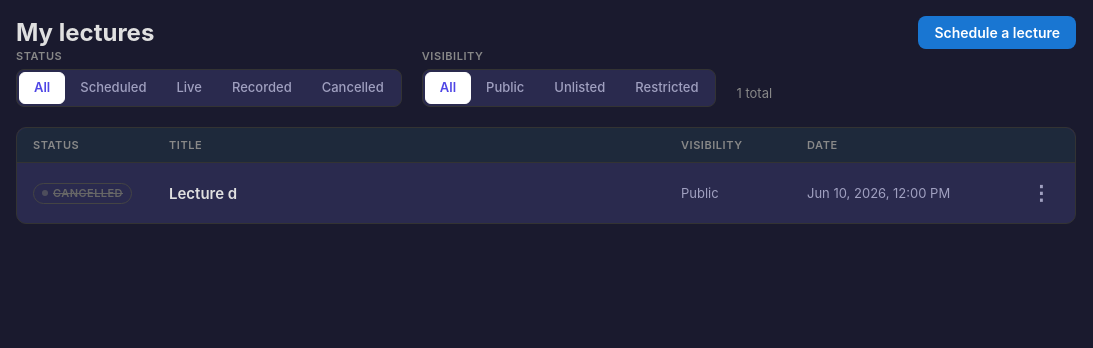
<MyLecturesPage> KS-3998: ⋮-меню по статусам › cancelled: Open / Copy link / Delete (без Settings, Start, End)
This screenshot has width=1093, height=348.
expect the list with test id "my-lectures-list" is shown: met, box [16,127,1076,224]
Click the button "⋮".
click(1041, 193)  # box [1023,175,1059,211]
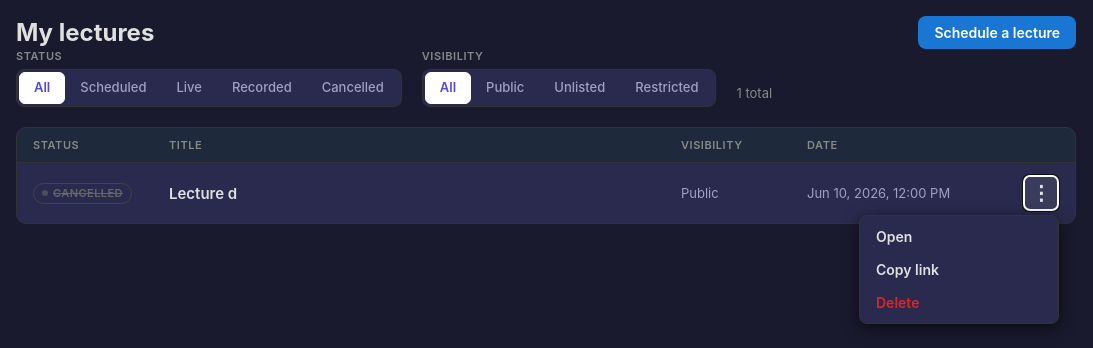
expect the menu item with test id "my-lectures-action-open-d" is shown: met, box [864,220,1054,253]
expect the menu item with test id "my-lectures-action-share-d" is shown: met, box [864,253,1054,286]
expect the menu item with test id "my-lectures-action-delete-d" is shown: met, box [864,286,1054,319]
